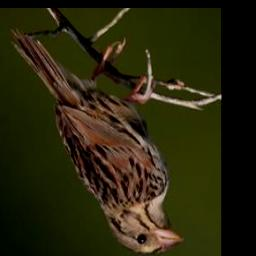Sparrow: (14, 31, 184, 256)
